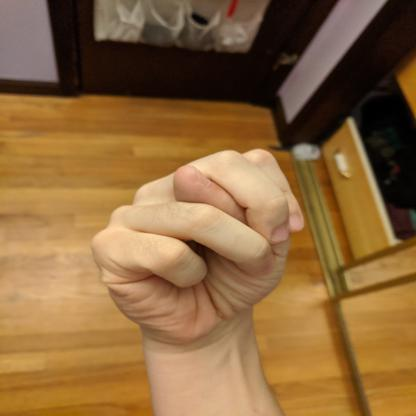N: (84, 145, 310, 346)
